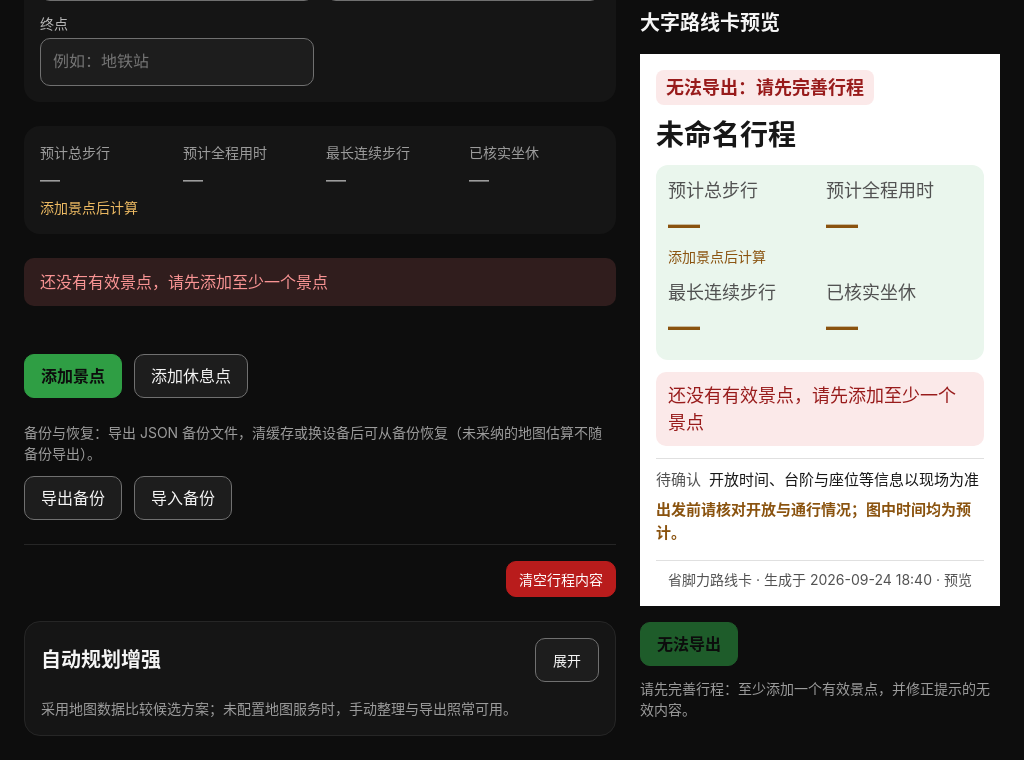
Test: 多行程管理（Task 6） › 新建行程：进入空行程编辑
This screenshot has width=1024, height=760.
(page scrolled)
Click the button "添加景点" at (73, 376), box [24, 354, 122, 398]
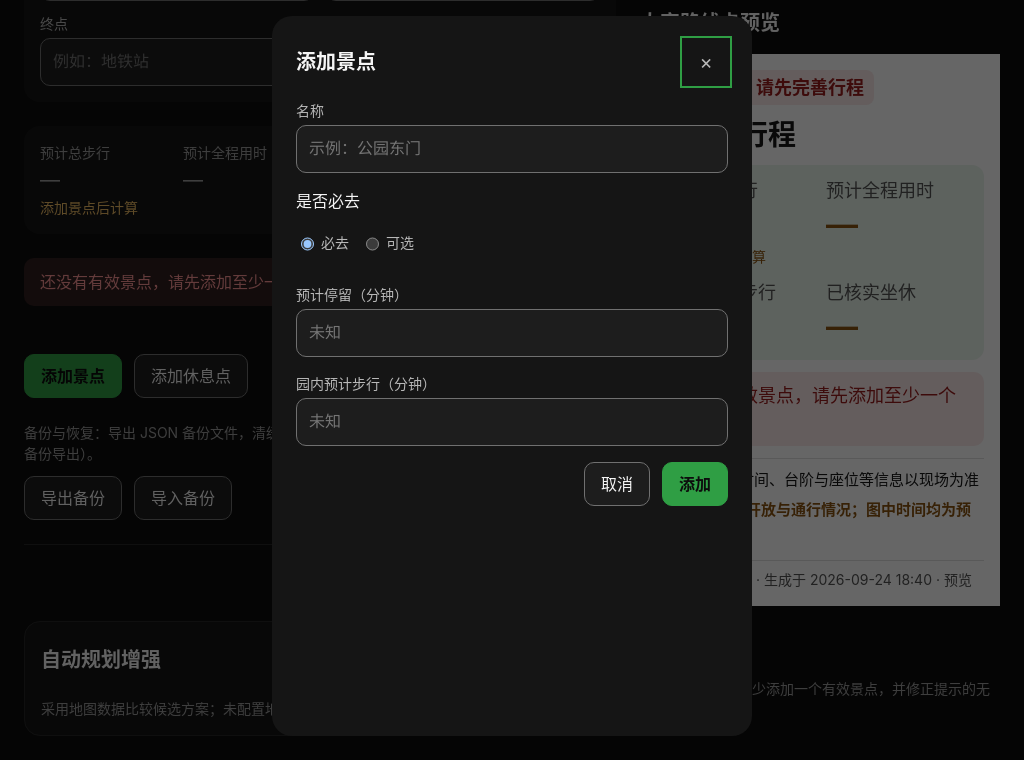
Type "旧行程景点" into the field labelled "名称" at (512, 149), box [296, 125, 728, 173]
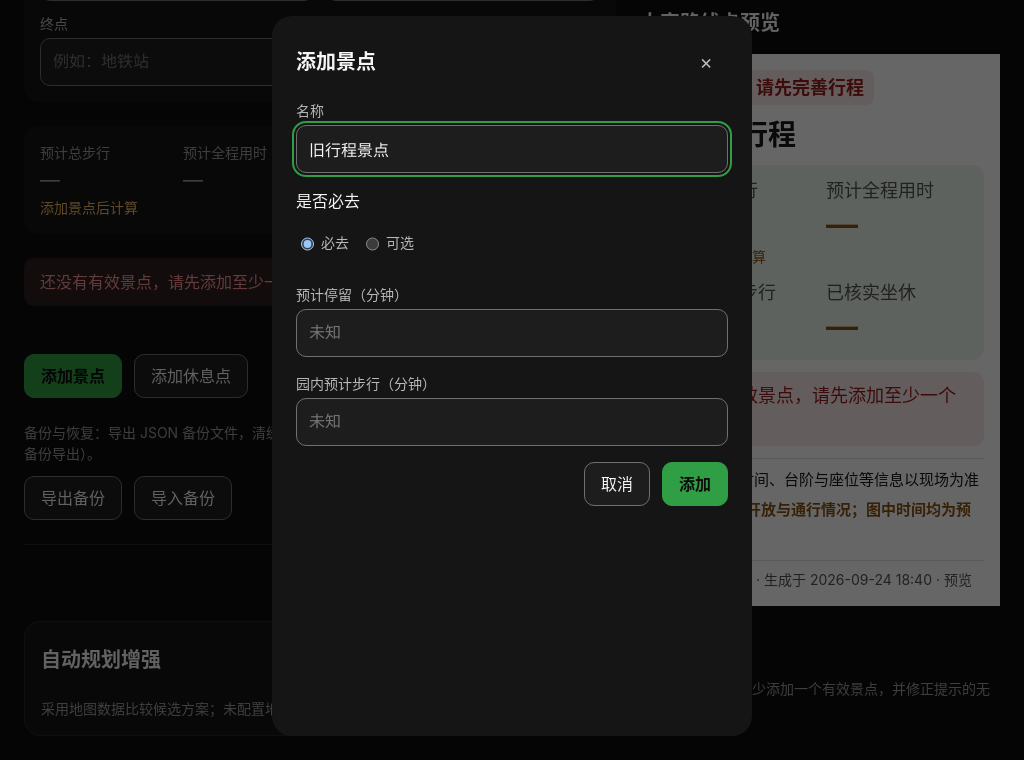
Click the button "添加" at (695, 484), box [662, 462, 728, 506]
(page scrolled)
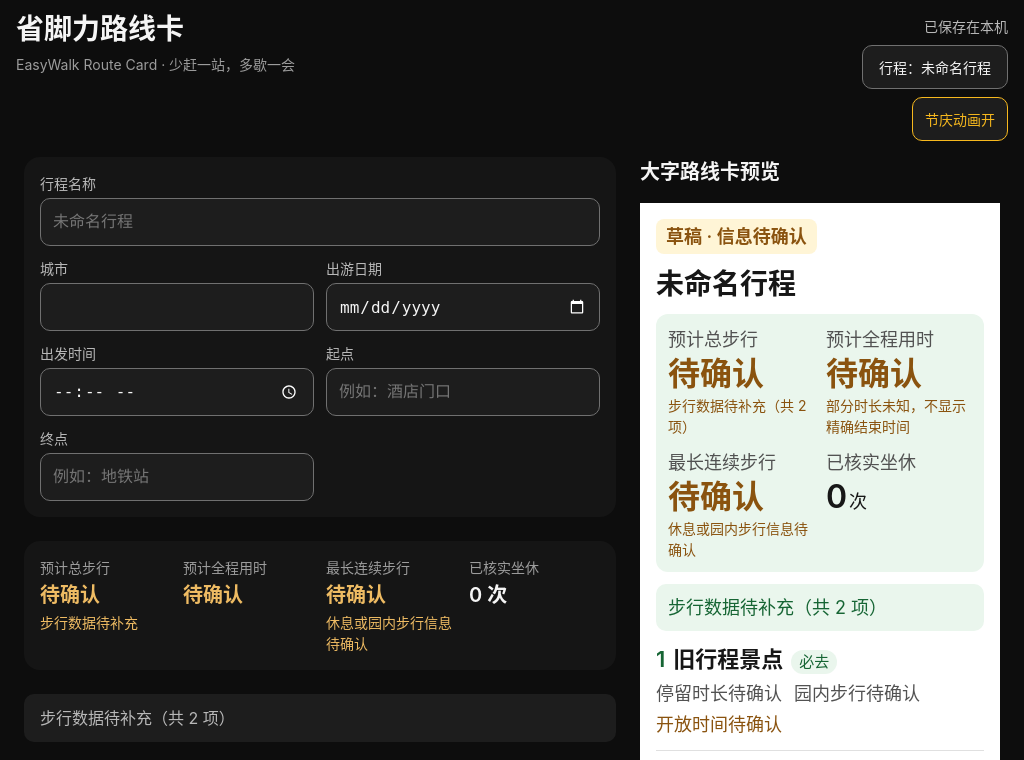
Type "旧行程" into the field labelled "行程名称" at (320, 222), box [40, 198, 600, 246]
Then press Enter
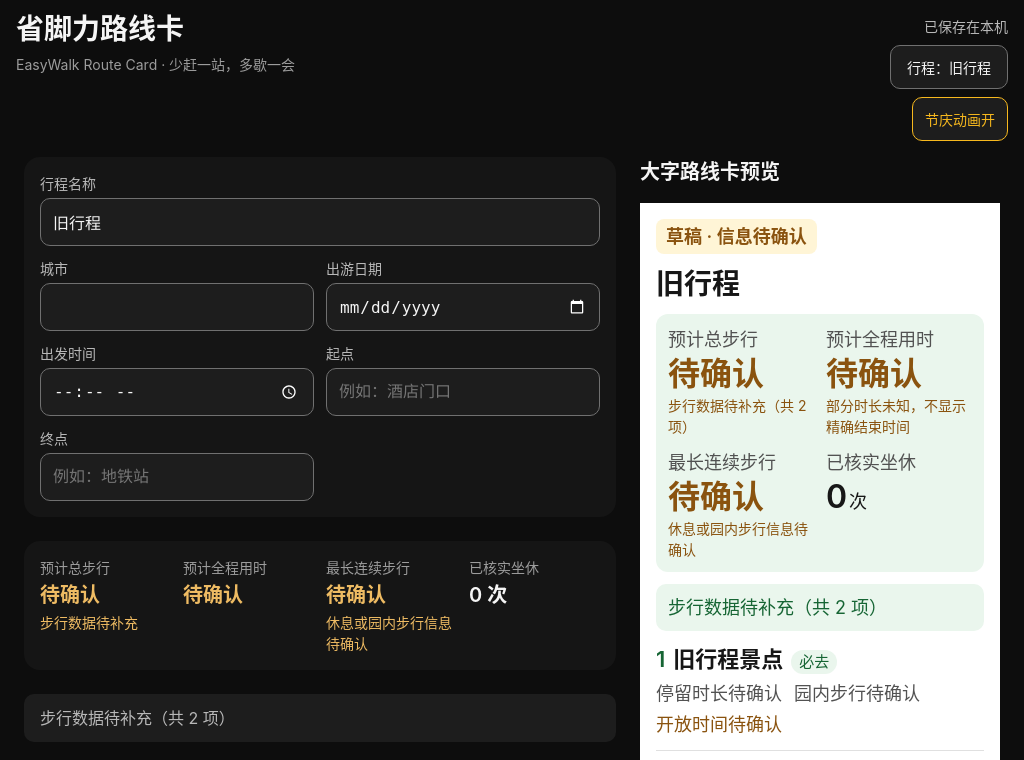
Click the button with aria-label "行程列表" at (949, 67), box [890, 45, 1008, 89]
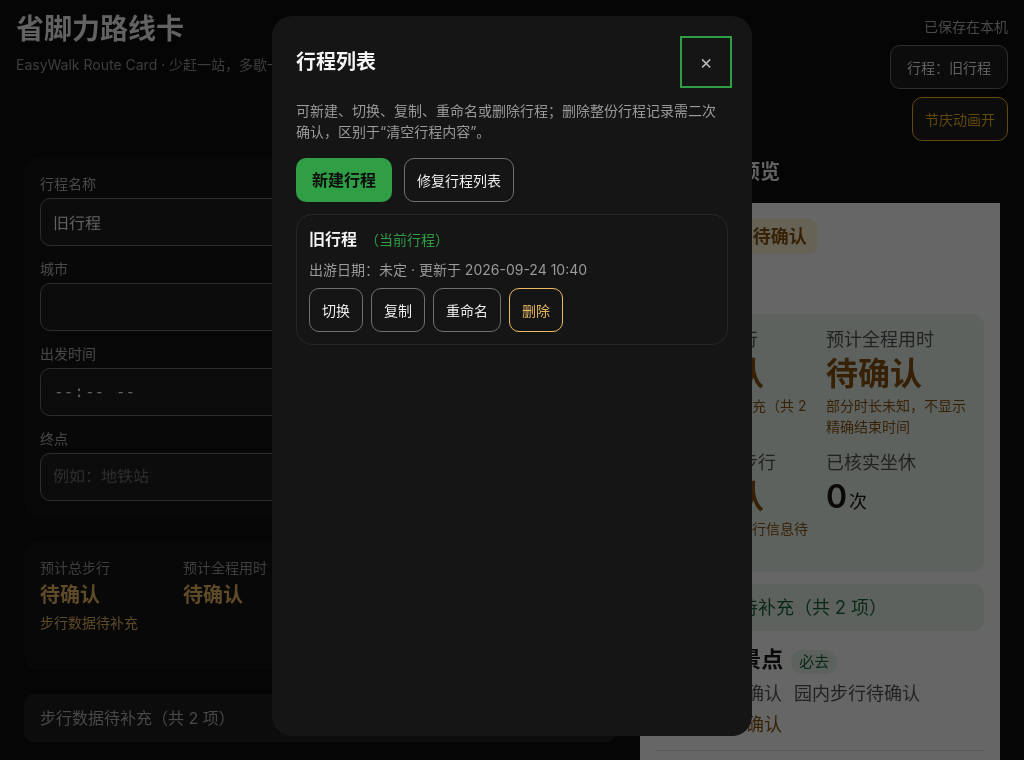
Click the button "新建行程" at (344, 180), box [296, 158, 392, 202]
(page scrolled)
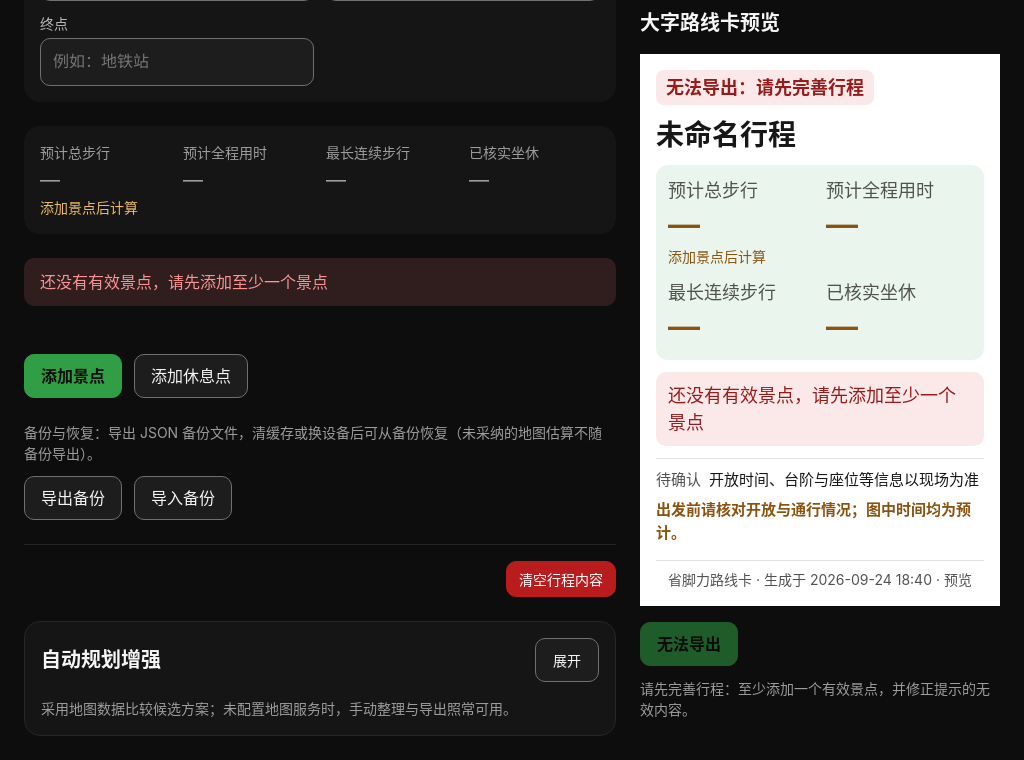
Expected: the button "添加景点" is shown, [24, 354, 122, 398]
Now the heading "行程列表" is gone
